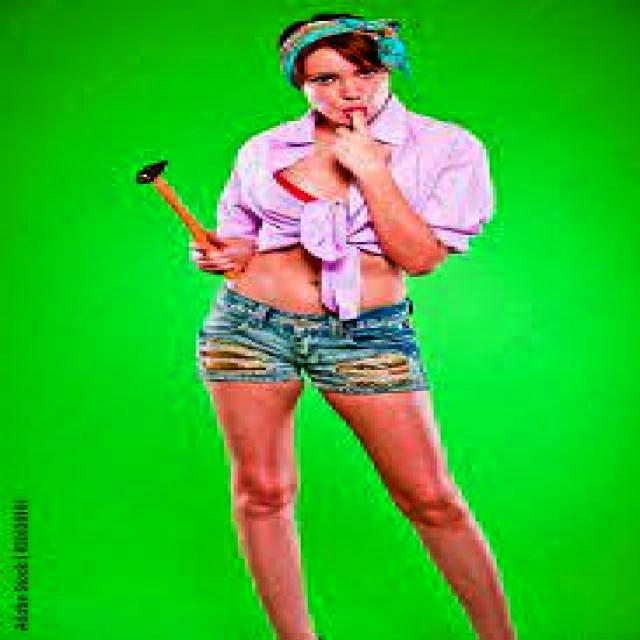hammer: (130, 153, 248, 294)
